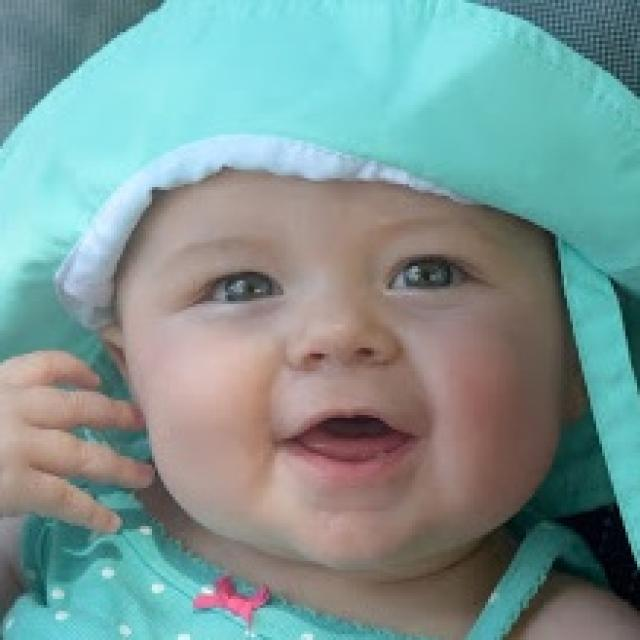Normal: (115, 169, 571, 562)
